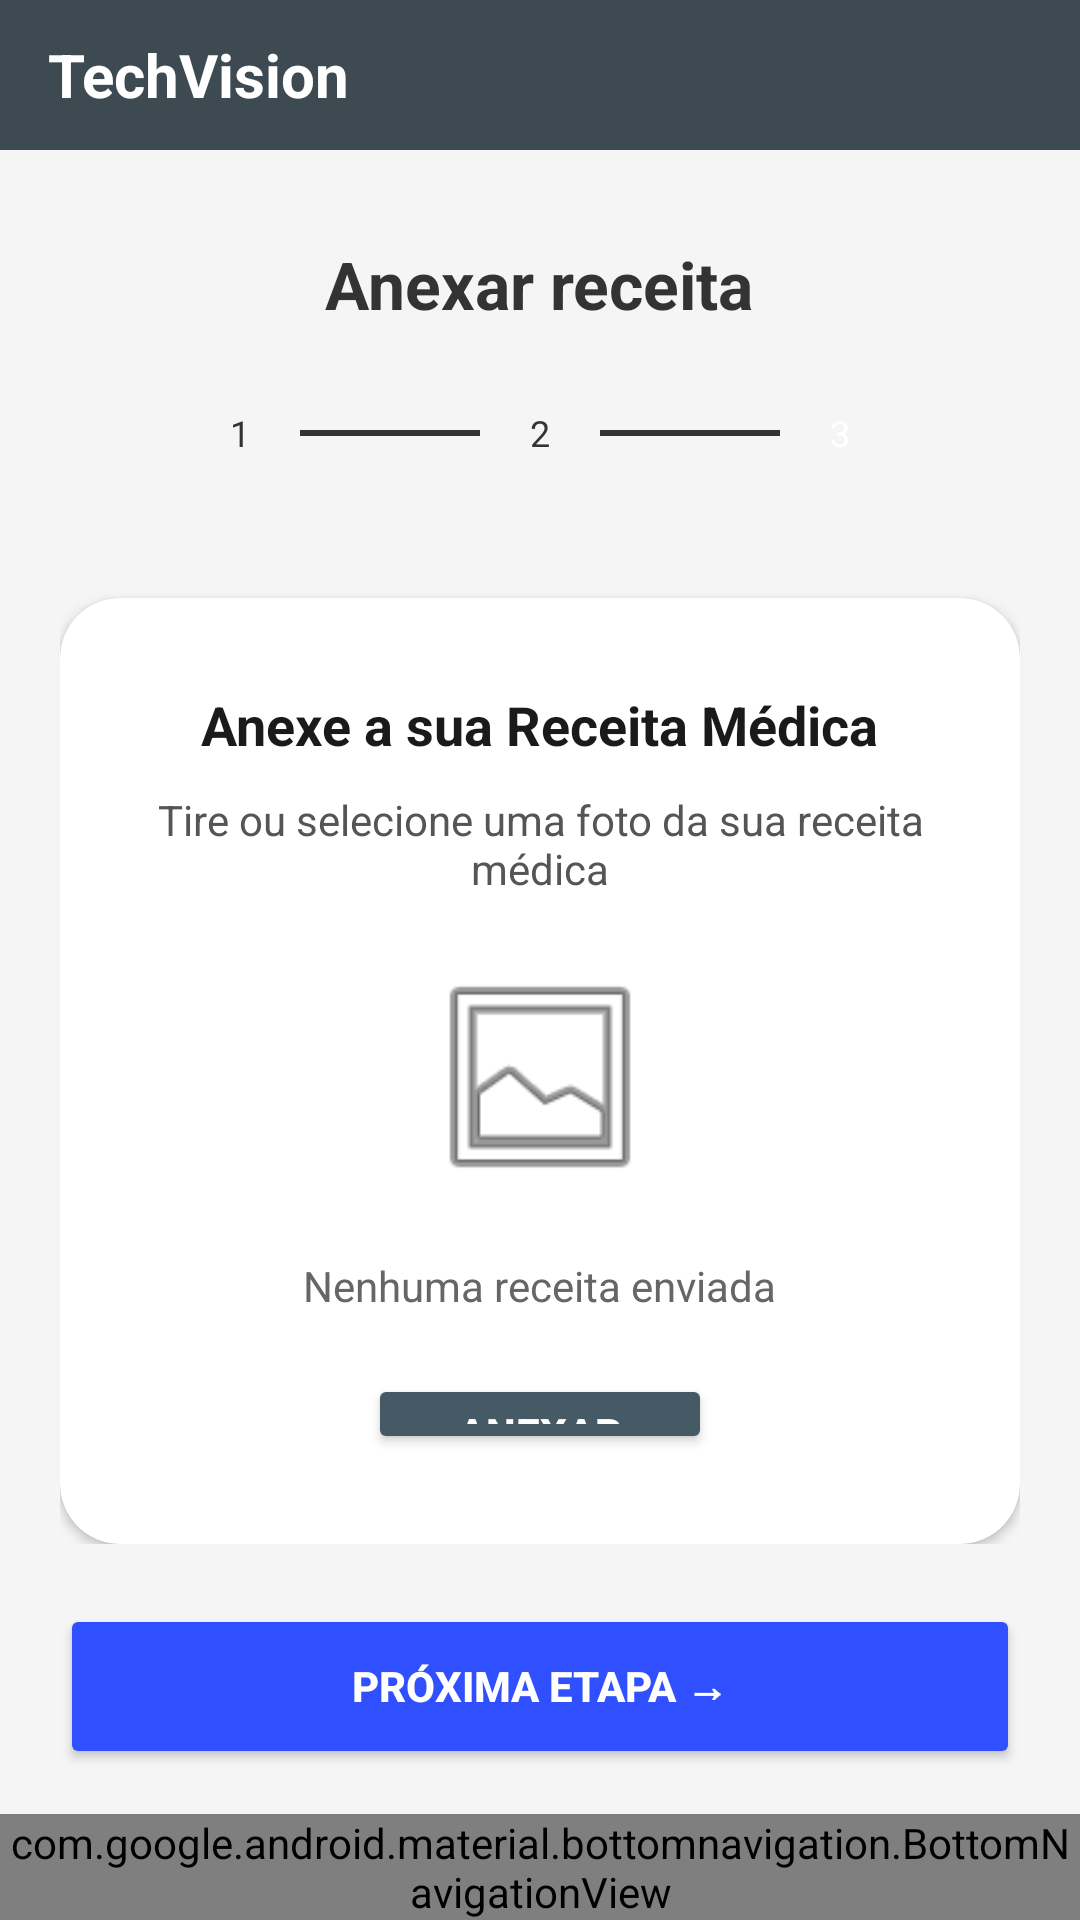

Icon click points for this 1080px×1920px phone screenshot, format (x,y):
gallery: (540,1077)
